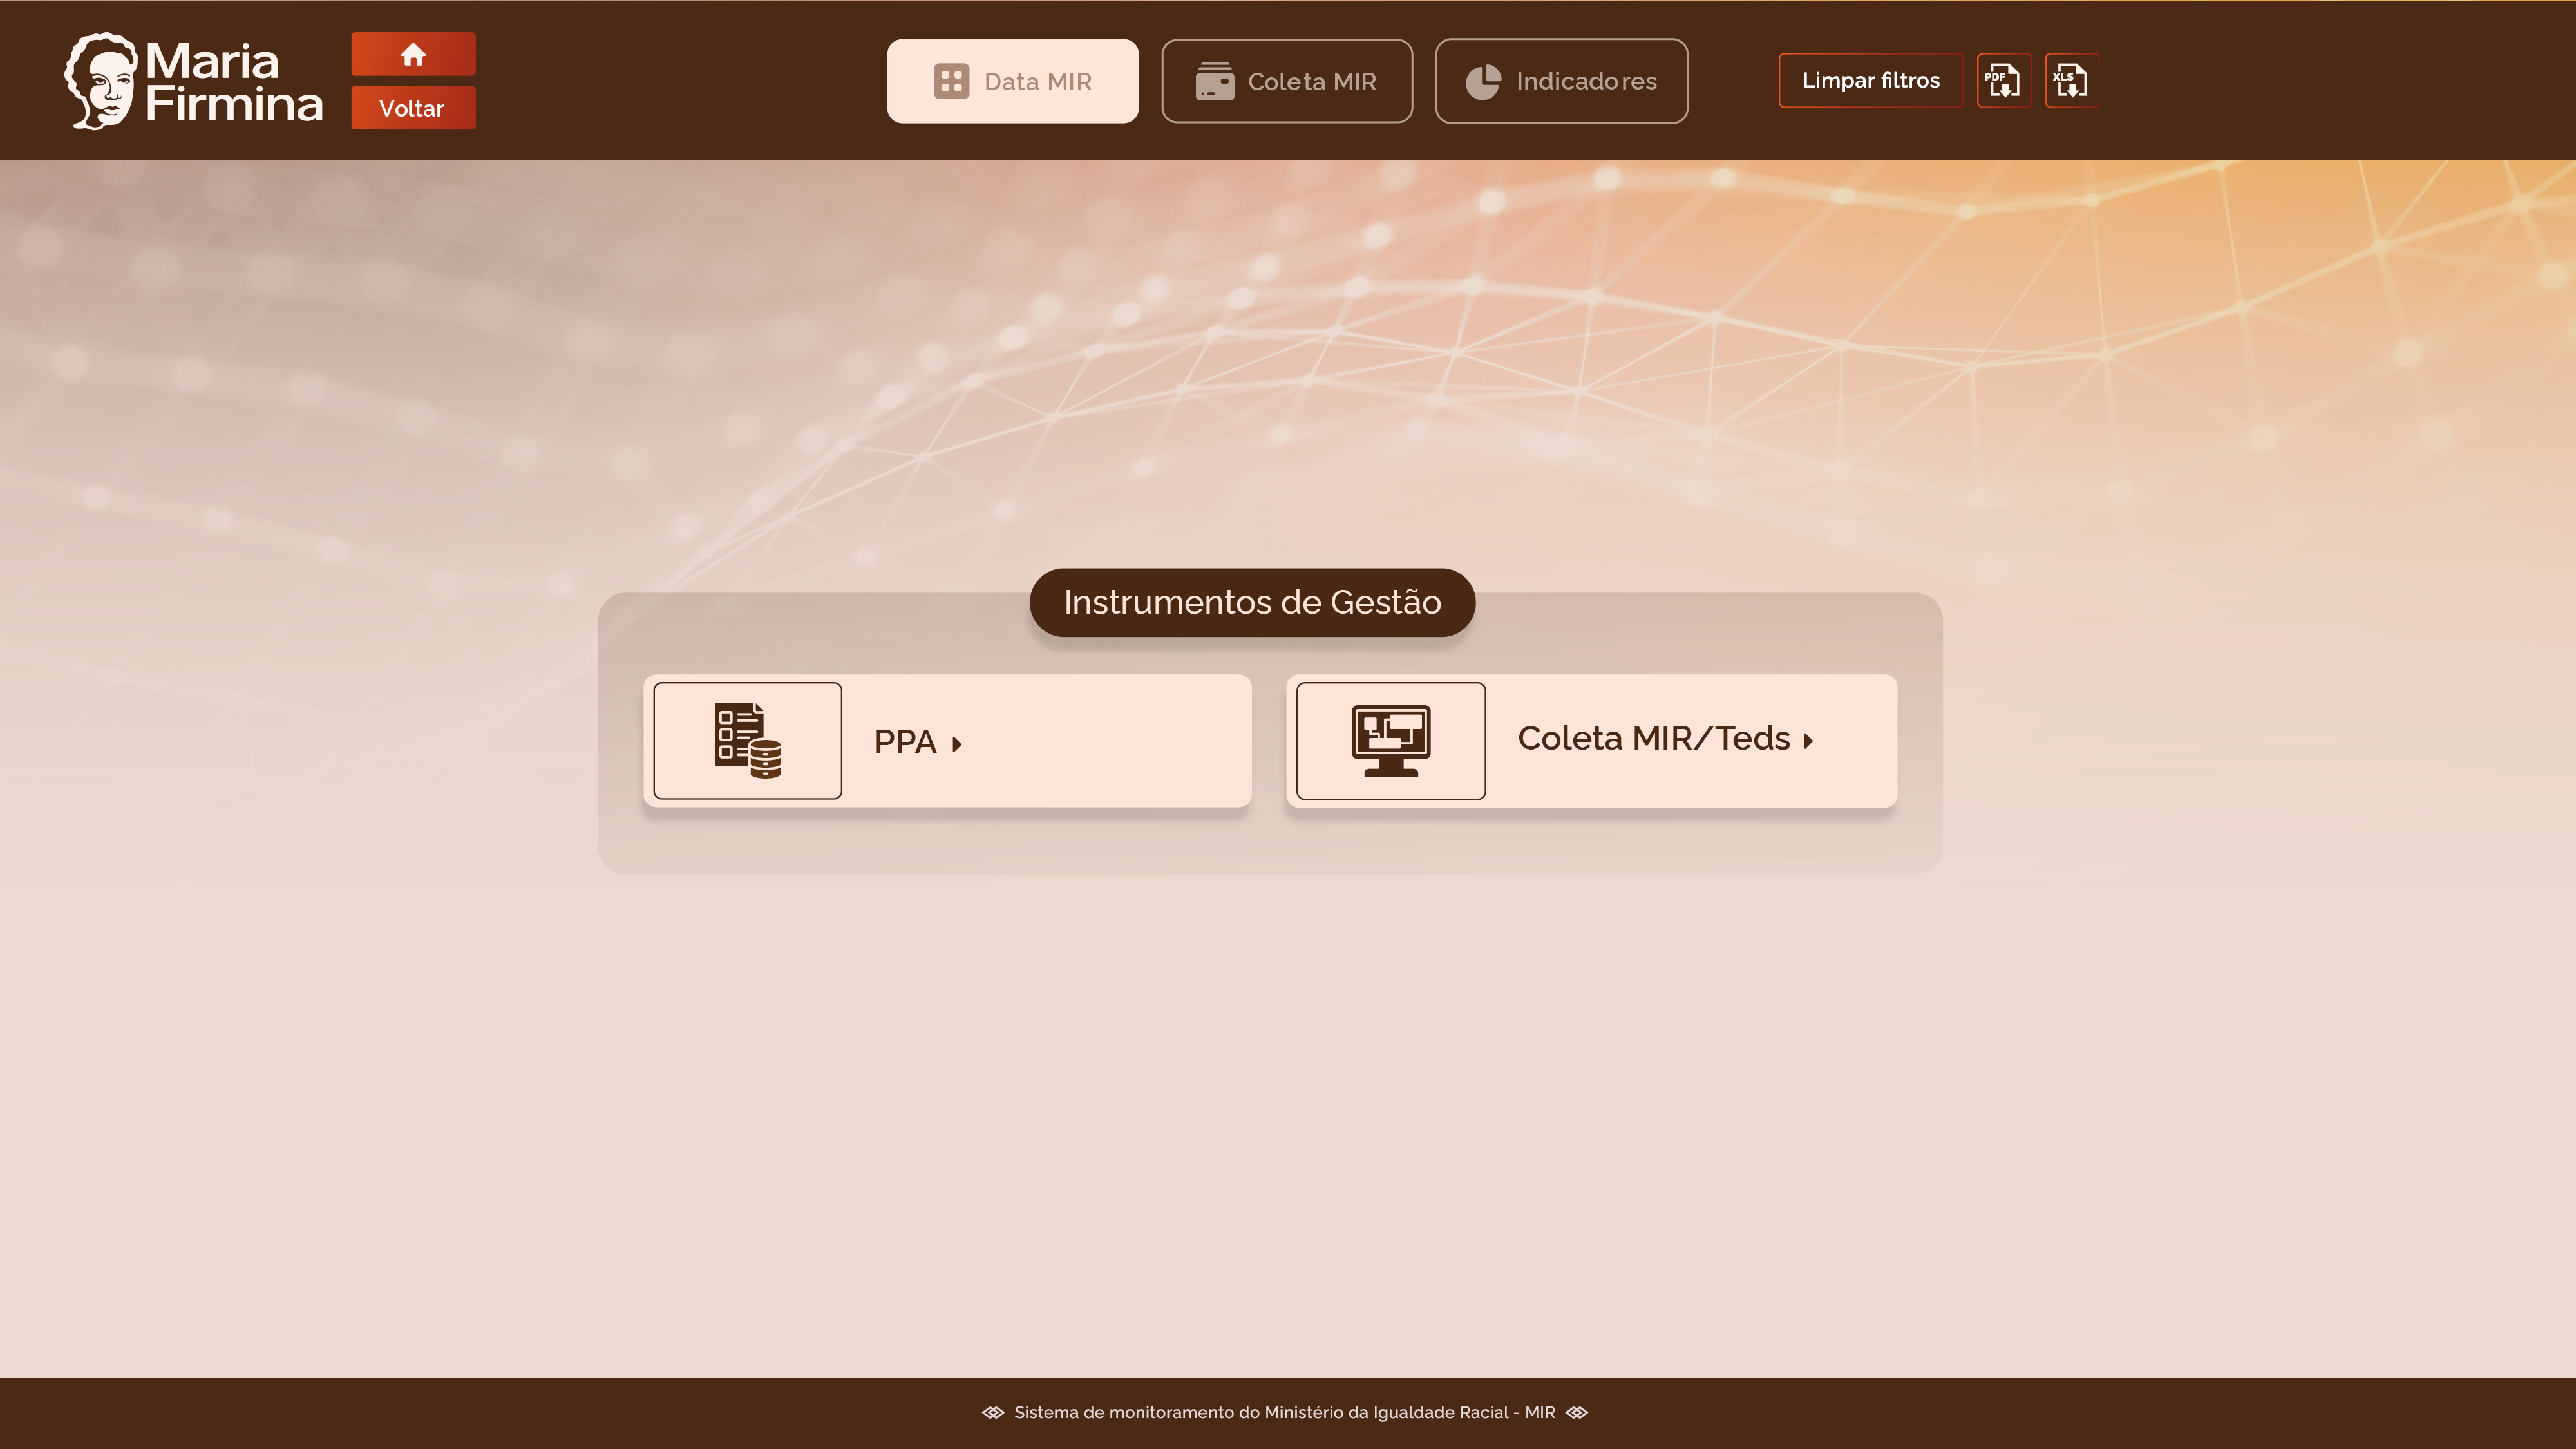

This screenshot's page, from the dashboard's own definition file:
{"tool":"powerbi","page":{"name":"Sel_dimensoes_gestão","canvas":[1920,1080],"ordinal":3},"visuals":[{"type":"actionButton","box":[262,58.2,94.3,32.9],"z":0},{"type":"actionButton","box":[262.2,19,92.2,33.3],"z":1},{"type":"textbox","box":[1643.1,25.5,167.6,71.8],"z":2},{"type":"actionButton","box":[1327.2,36.9,137.8,38.9],"z":3},{"type":"image","box":[1820.5,38.2,53.3,37.8],"z":4},{"type":"actionButton","box":[661.9,24.9,187.3,62.7],"z":5},{"type":"actionButton","box":[866.5,24.9,187.3,62.7],"z":6},{"type":"actionButton","box":[1069.9,26.2,187.3,62.7],"z":7},{"type":"actionButton","box":[960.3,498.6,455.6,98.2],"z":8},{"type":"actionButton","box":[481.7,500.1,452.6,99.7],"z":9}]}

Visuals, with their boxes in screenshot pixels (x1, y1, x2, y2), scaled from the page's 1920x1080 canvas onto the 2576x1449 screenshot:
actionButton: <box>352,78,478,122</box>
actionButton: <box>352,26,475,70</box>
textbox: <box>2204,34,2429,131</box>
actionButton: <box>1781,50,1965,102</box>
image: <box>2443,52,2514,102</box>
actionButton: <box>888,33,1139,117</box>
actionButton: <box>1162,33,1414,117</box>
actionButton: <box>1435,35,1687,119</box>
actionButton: <box>1289,669,1900,800</box>
actionButton: <box>647,671,1253,805</box>
